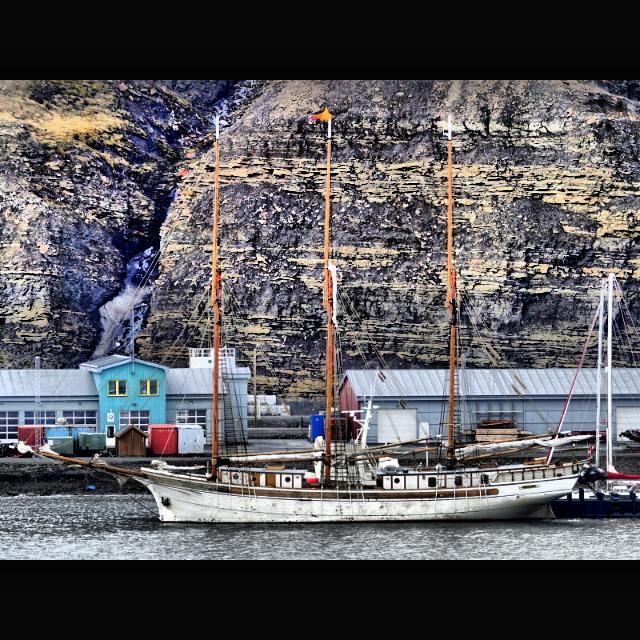sailing_vessel: (38, 109, 592, 525)
